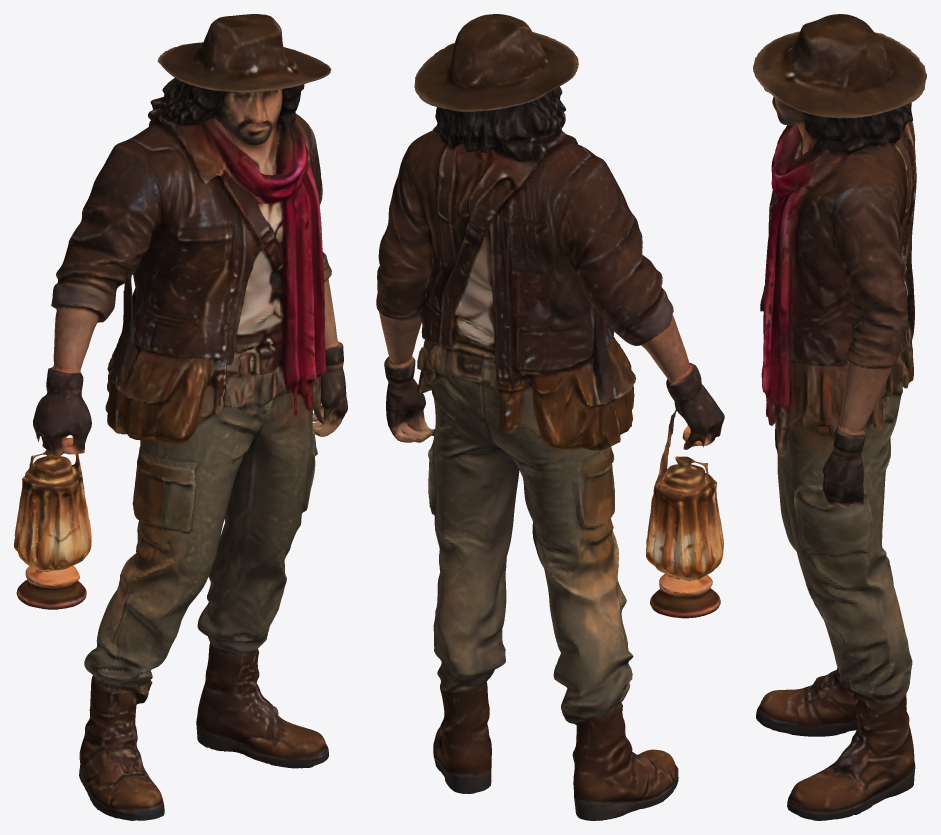
The model's file is rudhra_pbr_hero.glb.
The picture shows the model from 3 angles, left to right: view 1: azimuth 30°, elevation 25°; view 2: azimuth 150°, elevation 25°; view 3: azimuth 270°, elevation 25°; orthographic projection. The views are drawn at different scales.
Parts seen in each view (by area): view 1: Rudhra_Hero; view 2: Rudhra_Hero; view 3: Rudhra_Hero.
Part boxes in pixels (bbox=[...]): Rudhra_Hero: bbox=[14, 14, 347, 820]; Rudhra_Hero: bbox=[376, 14, 724, 820]; Rudhra_Hero: bbox=[753, 14, 926, 820].
Size of the model in its own units: 0.7605 by 1.65 by 0.3392.
1 material, 1 textured.
